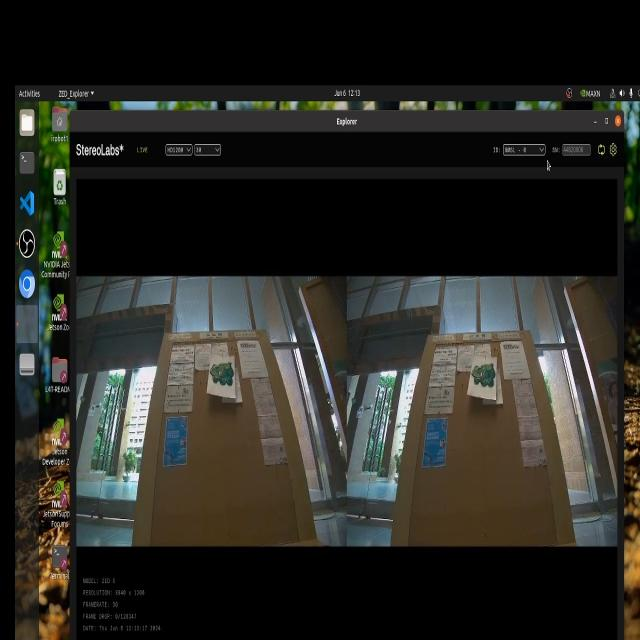green: (205, 357, 238, 397), (472, 363, 501, 399)
